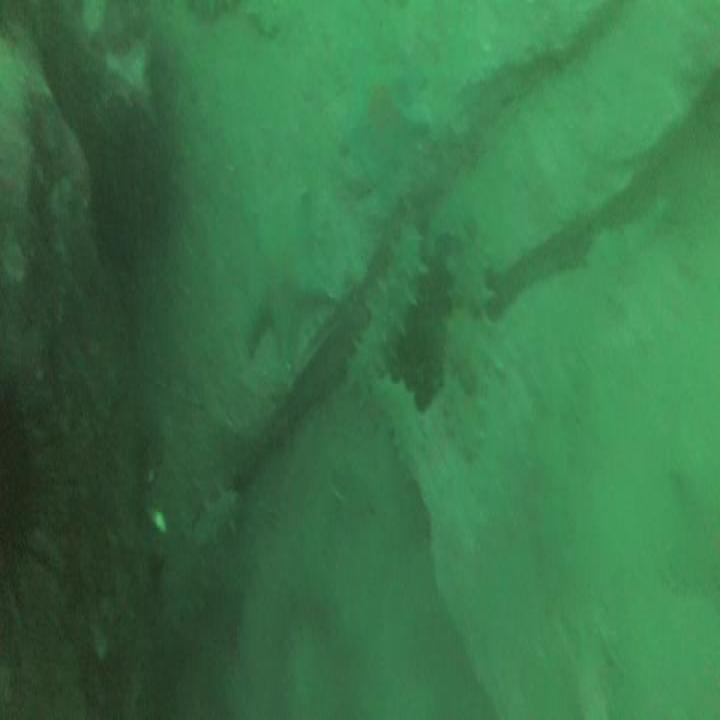echinus: (0, 377, 63, 608)
holothurian: (349, 214, 421, 398), (448, 201, 490, 469), (189, 484, 244, 538)
starfish: (339, 64, 431, 192), (244, 249, 327, 368)
